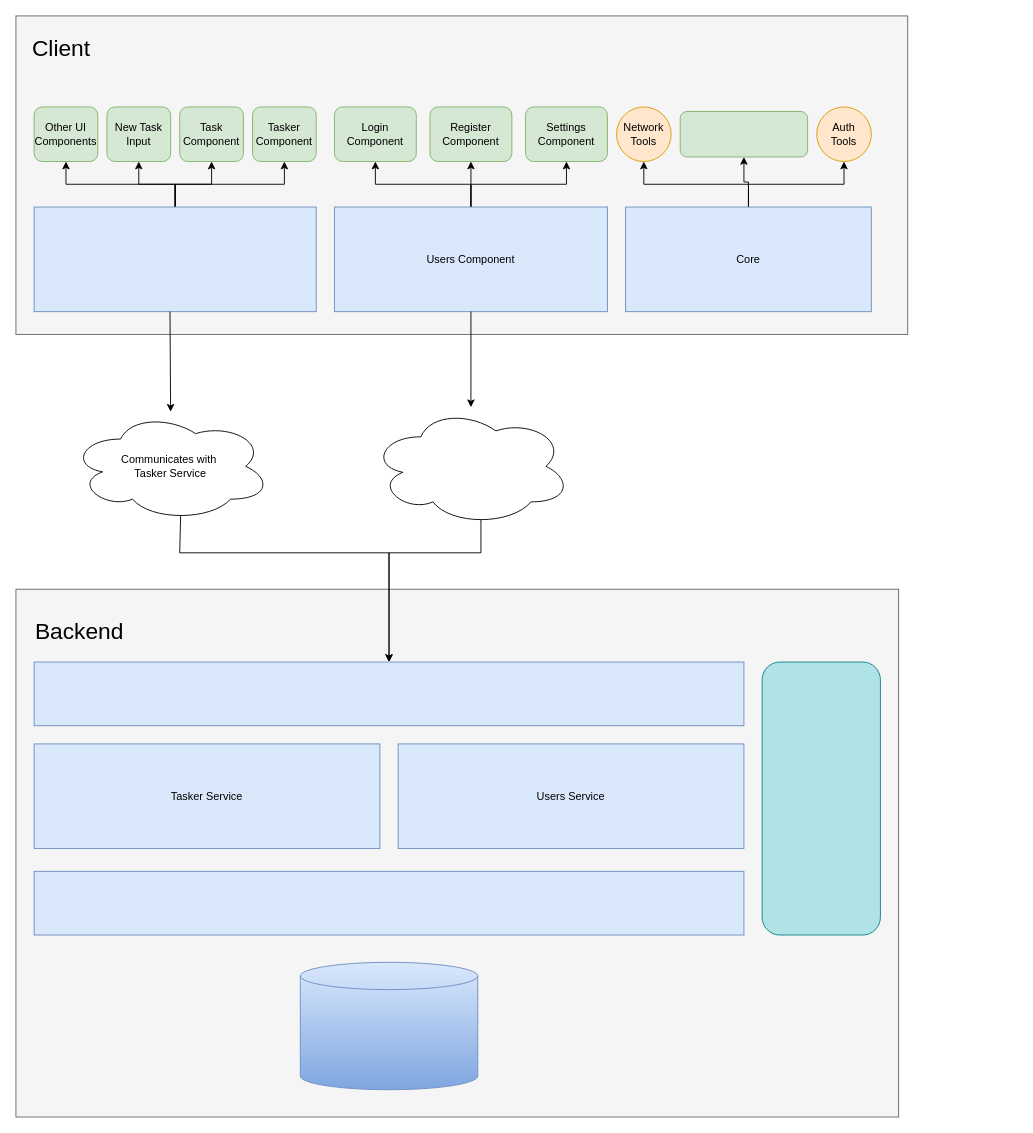
The diagram is 1033 pixels wide and 1133 high, and some of its shapes have lost their labels. Each missing label, with the centre of its shape:
"Common Components" belongs at [743,134].
"Communicates with Users Service" belongs at [470,466].
"Controller Layer (REST Controllers: UsersController, TaskController, ...)" belongs at [388,693].
"Repository Layer" belongs at [388,902].
"Tasker Section" belongs at [174,259].
"Utils" belongs at [820,798].
